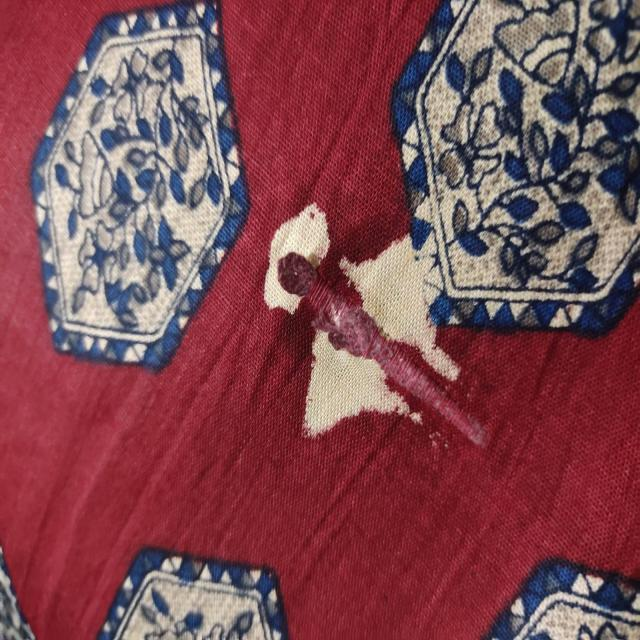stain: (262, 205, 446, 428)
